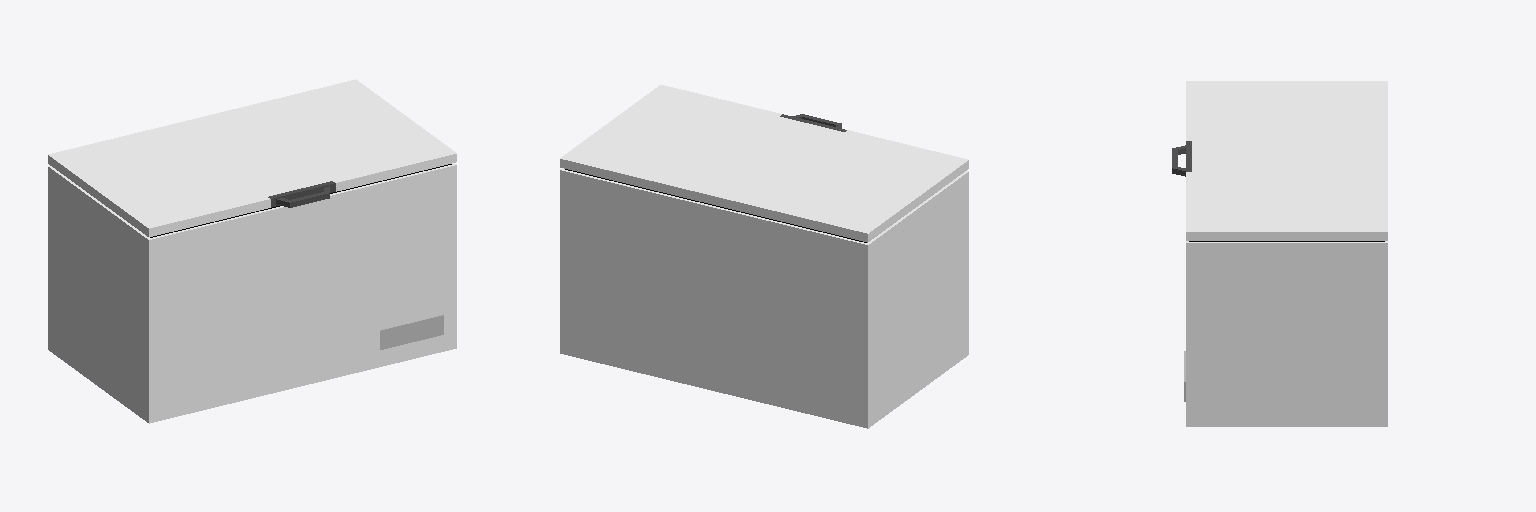
The model's file is chest-freezer.obj.
3 views of the same model, side by side, from view 1: azimuth 30°, elevation 25°; view 2: azimuth 150°, elevation 25°; view 3: azimuth 270°, elevation 25° (orthographic).
Parts seen in each view (by area): view 1: Cube_Cube.001, Cube.003; view 2: Cube_Cube.001; view 3: Cube_Cube.001.
Part boxes in pixels (left/top/right/bottom): Cube_Cube.001: left=48, top=79, right=456, bottom=423; Cube.003: left=380, top=315, right=443, bottom=349; Cube_Cube.001: left=560, top=85, right=968, bottom=428; Cube_Cube.001: left=1172, top=81, right=1387, bottom=426.
Bounding box in the file's own units: 100 × 61.59 × 60.78.